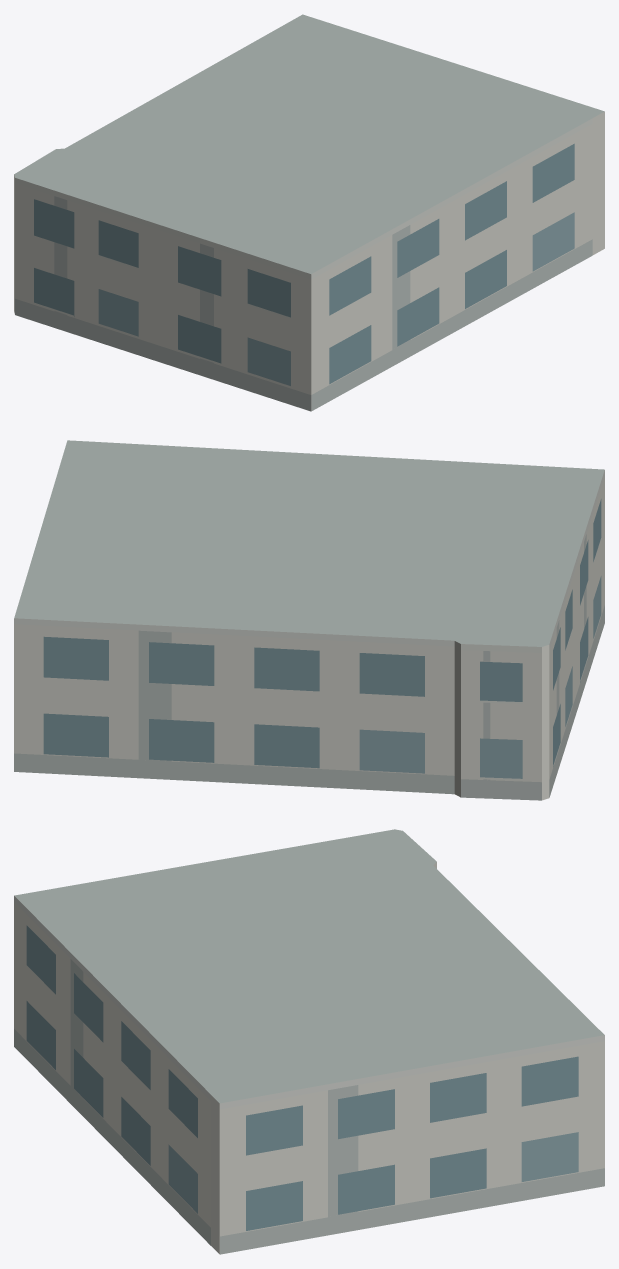
File: survey-upis-32732073.glb
3 views of the same model, one above another, from view 1: azimuth 30°, elevation 25°; view 2: azimuth 150°, elevation 25°; view 3: azimuth 270°, elevation 25° (orthographic). The views are drawn at different scales.
Parts seen in each view (by area): view 1: survey-upis-32732073.tmp; view 2: survey-upis-32732073.tmp; view 3: survey-upis-32732073.tmp.
Boxes of the visible parts, x1,y1,x2,y2 form: survey-upis-32732073.tmp: (14, 14, 604, 411); survey-upis-32732073.tmp: (14, 440, 604, 800); survey-upis-32732073.tmp: (14, 829, 604, 1254).
Bounding box in the file's own units: 23.74 × 6.1 × 21.62.
